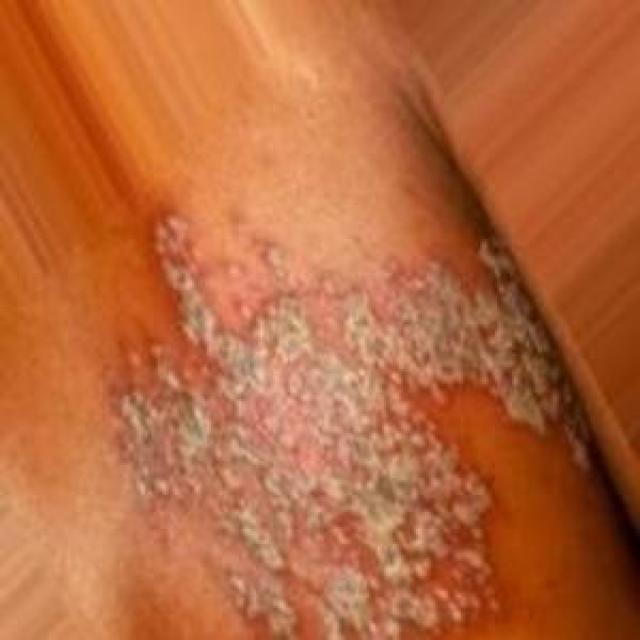Shingles: (107, 202, 591, 640)
